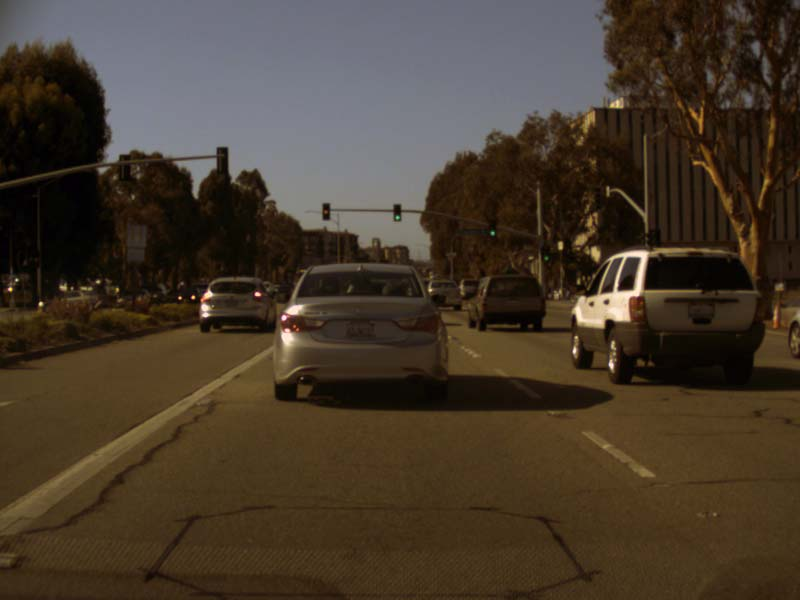Green: (392, 204, 400, 221), (541, 245, 549, 261), (488, 220, 495, 237)
Yellow: (322, 203, 329, 220)
